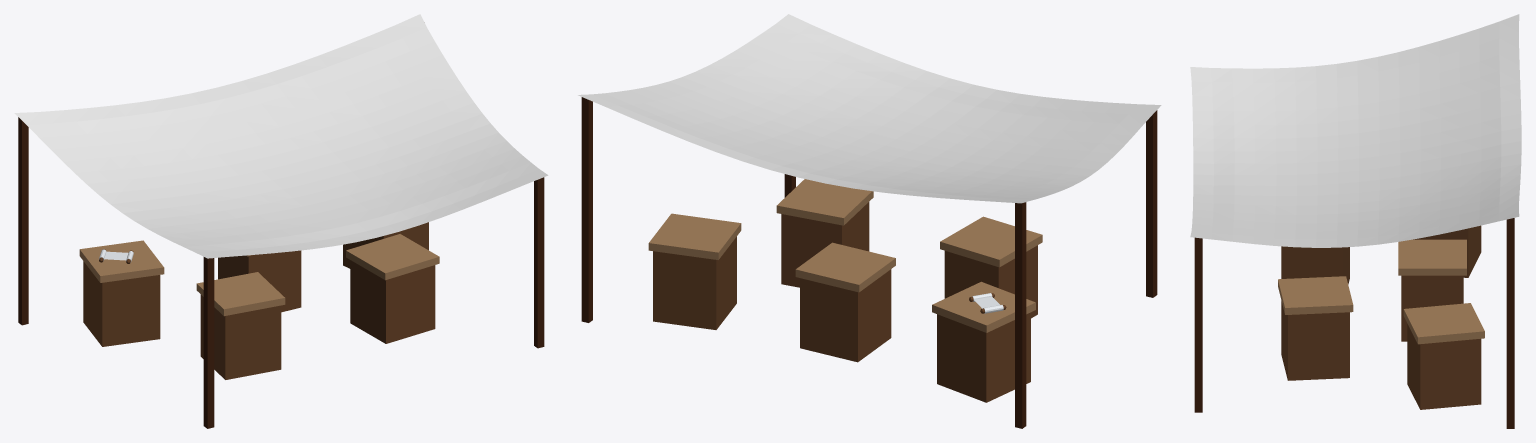
The model's file is Philosophieschule.fbx.
3 views of the same model, side by side, from view 1: azimuth 30°, elevation 25°; view 2: azimuth 150°, elevation 25°; view 3: azimuth 270°, elevation 25° (orthographic). The views are drawn at different scales.
Parts seen in each view (by area): view 1: Plane, Sitz4, Sitz3, Sitz5, Stangen, Sitz2, Sitz1; view 2: Plane, Sitz2, Sitz1, Sitz3, Stangen, Sitz4, Sitz5; view 3: Plane, Sitz1, Sitz4, Sitz2, Stangen, Sitz5, Sitz3.
Boxes of the visible parts, left/top/right/bottom form: Plane: left=14, top=14, right=548, bottom=258; Sitz4: left=346, top=234, right=439, bottom=343; Sitz3: left=79, top=240, right=164, bottom=346; Sitz5: left=196, top=272, right=285, bottom=379; Stangen: left=18, top=117, right=544, bottom=428; Sitz2: left=218, top=250, right=301, bottom=312; Sitz1: left=343, top=222, right=428, bottom=268; Plane: left=578, top=14, right=1161, bottom=203; Sitz2: left=795, top=242, right=895, bottom=362; Sitz1: left=648, top=213, right=741, bottom=329; Sitz3: left=932, top=281, right=1035, bottom=402; Stangen: left=581, top=97, right=1157, bottom=428; Sitz4: left=776, top=179, right=873, bottom=287; Sitz5: left=940, top=216, right=1042, bottom=318; Plane: left=1190, top=14, right=1521, bottom=247; Sitz1: left=1403, top=303, right=1484, bottom=409; Sitz4: left=1278, top=276, right=1353, bottom=380; Sitz2: left=1398, top=239, right=1466, bottom=341; Stangen: left=1194, top=218, right=1514, bottom=428; Sitz5: left=1281, top=246, right=1349, bottom=284; Sitz3: left=1413, top=225, right=1481, bottom=277.
Size of the model in its own units: 1230 by 603 by 850.
